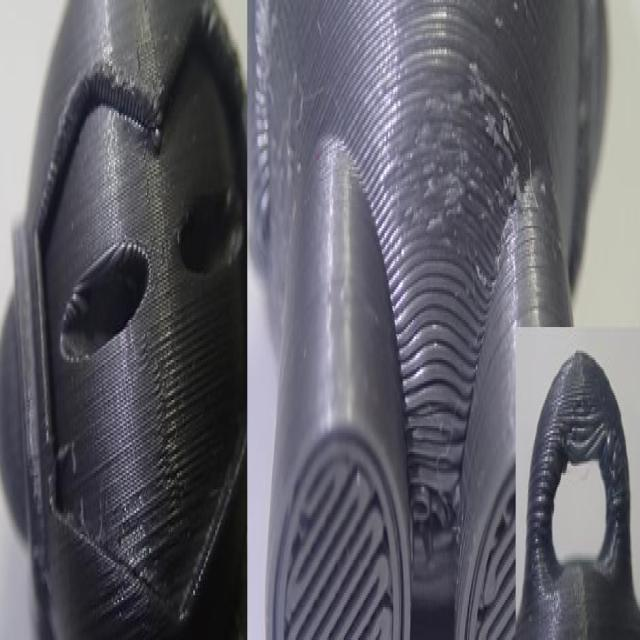cracks: (92, 498, 185, 632), (409, 464, 464, 586), (562, 370, 612, 474)
